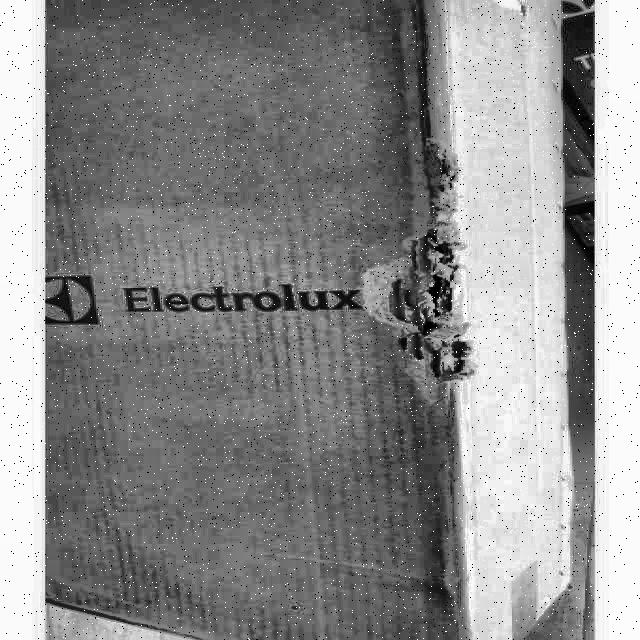box: (35, 1, 584, 640)
hole: (397, 233, 471, 380)
